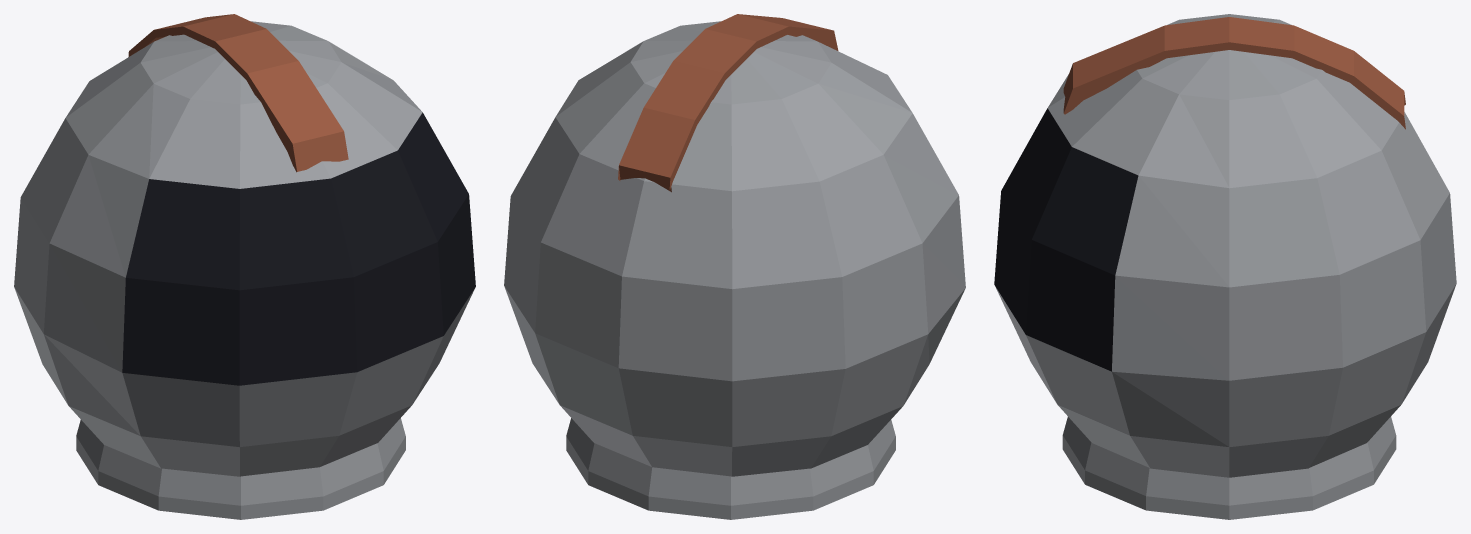
File: flight-helmet-56f390.glb
3 views of the same model, side by side, from view 1: azimuth 30°, elevation 25°; view 2: azimuth 150°, elevation 25°; view 3: azimuth 270°, elevation 25° (orthographic).
Bounding box in the file's own units: 0.2911 × 0.2928 × 0.2922.
